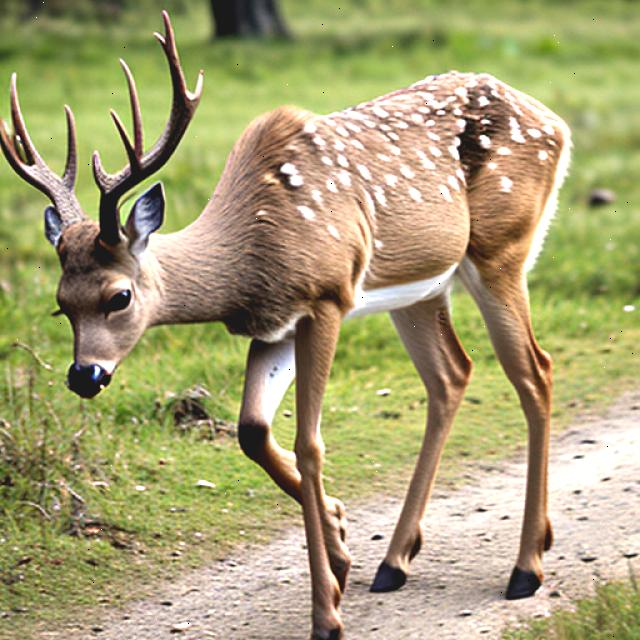deer: (4, 9, 556, 547)
